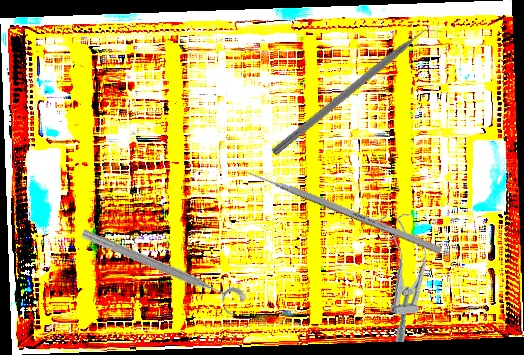Chopper: (270, 19, 445, 165)
Fixation Ring: (75, 223, 248, 320)
Pusher: (234, 163, 443, 255)
Speculum: (376, 210, 433, 344)
